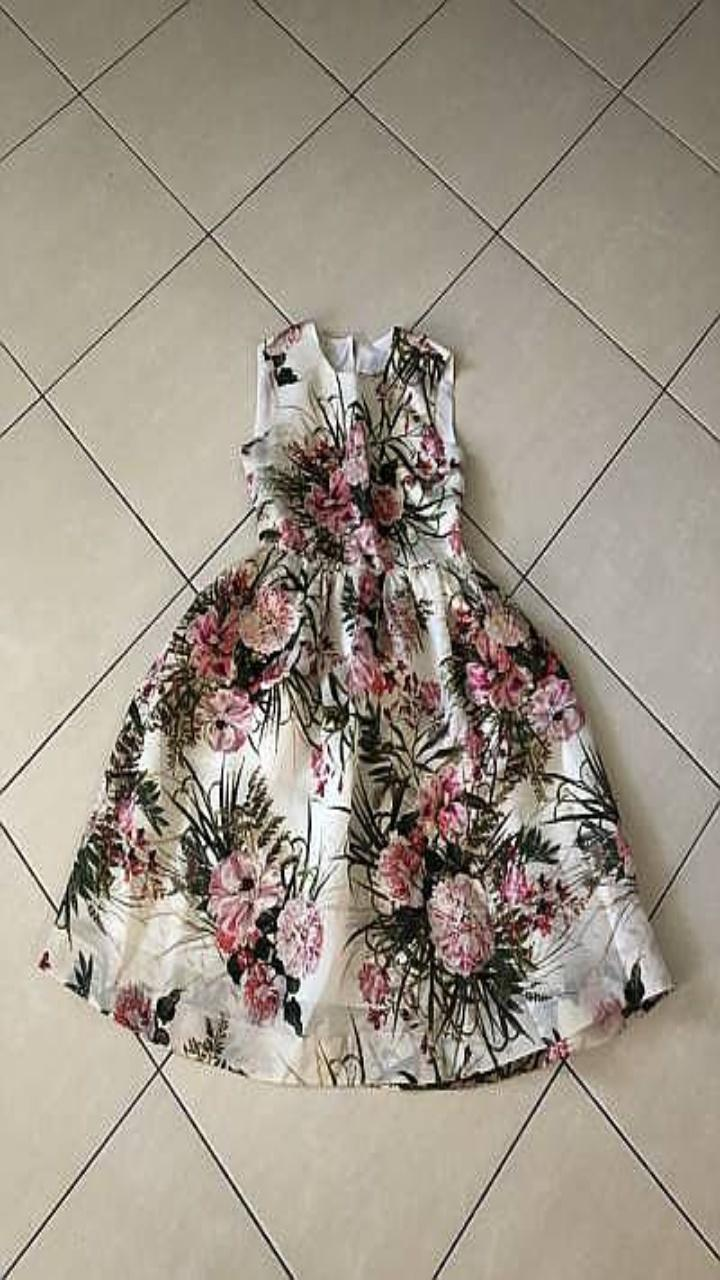Dresses: (39, 320, 672, 1087)
